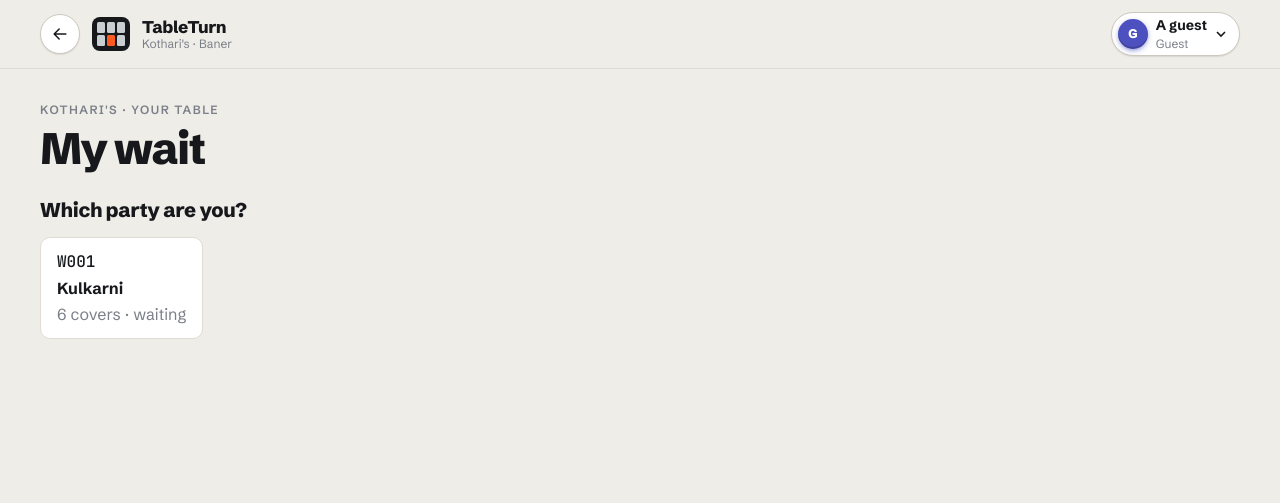
F-09 · The guest's own screen › clicking W001 Kulkarni gives way to the card: "Party W001", "Kulkarni · 6 covers", "Place" 1, and the header names the Kulkarni party
Click the button "W001 Kulkarni 6 covers · waiting" at {"x": 122, "y": 288}, box [40,237,203,339]
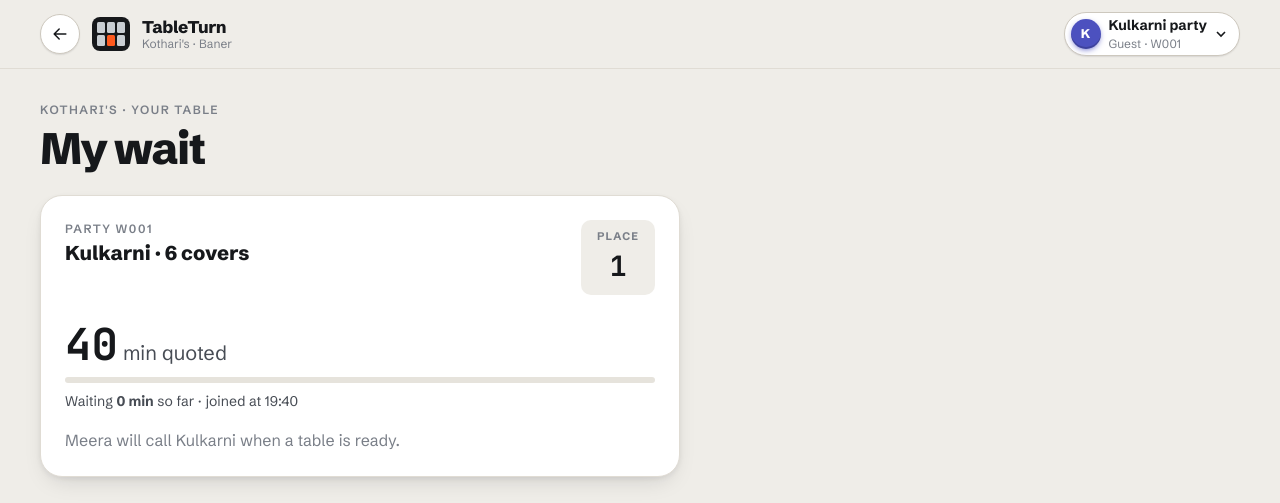
Expected: the heading "Which party are you?" is gone
Expected: the text "Party W001" is shown, [65,221,153,236]
Expected: the text "Kulkarni · 6 covers" is shown, [65,238,249,268]
